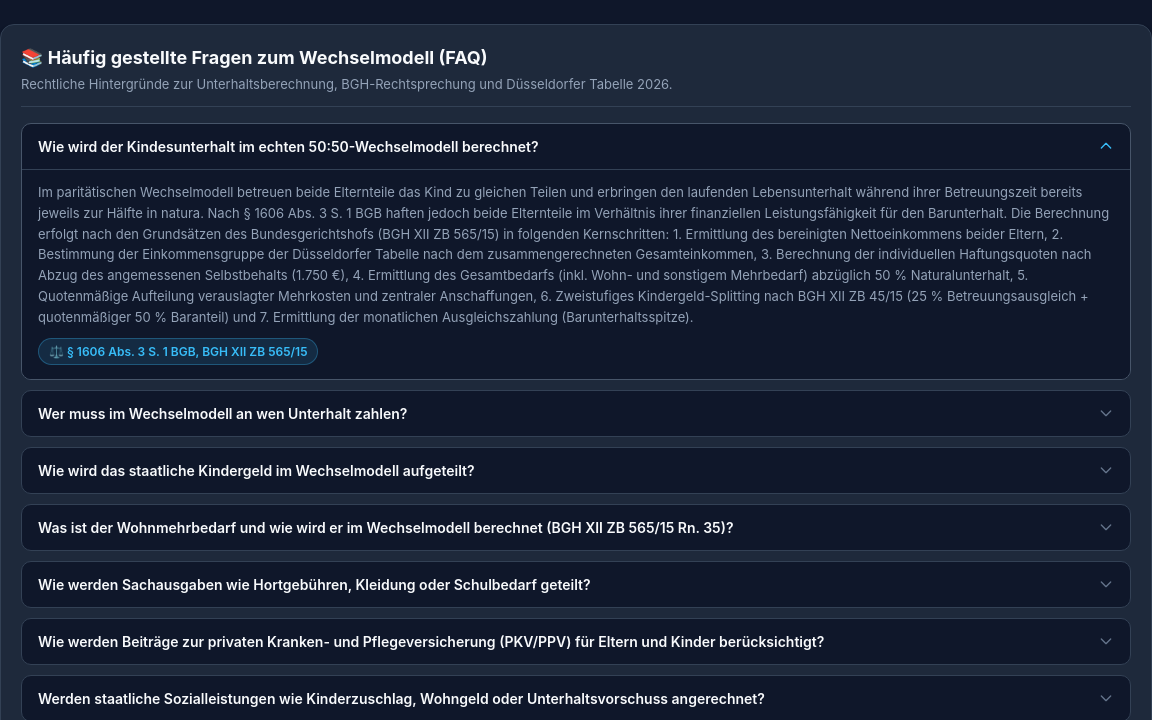
Test: FaqSection (SEO & Rechtsinformationen) › zeigt rechtliche Hintergründe zum Subsidiaritätsprinzip bei Sozialleistungen
Click the button named "Werden staatliche Sozialleistungen wie Kinderzuschlag, Wohngeld oder Unterhaltsvorschuss angerechnet?".
click(576, 698)  # box [22,676,1130,719]
(page scrolled)
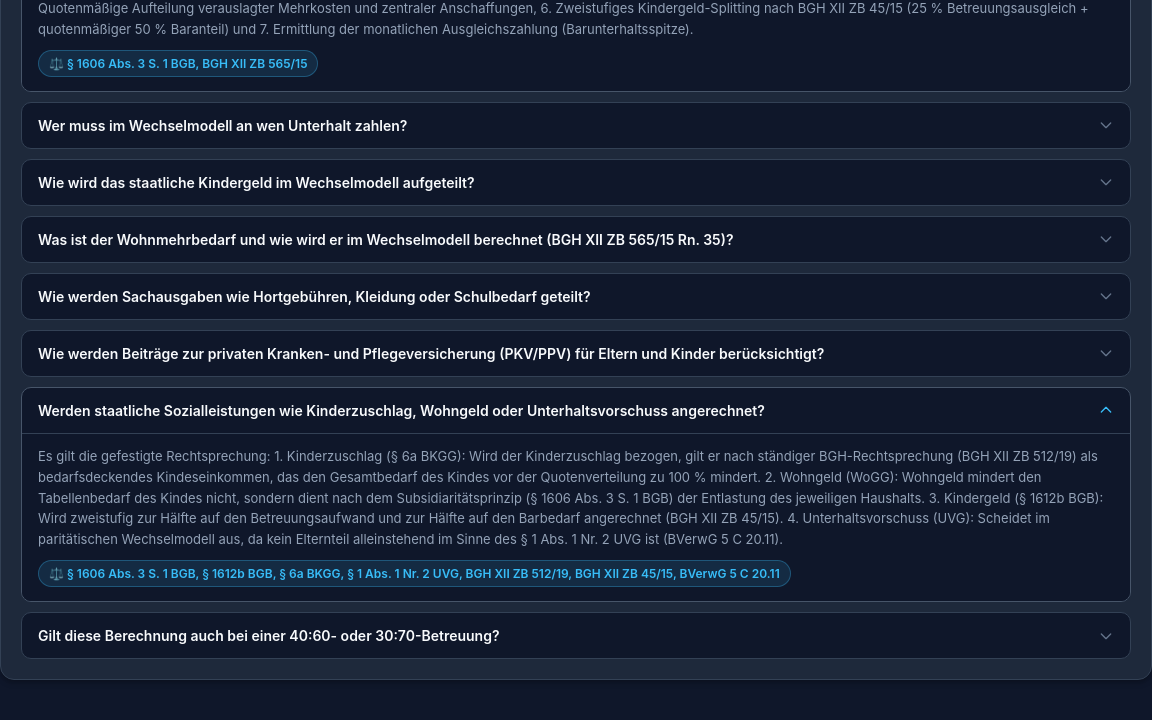
Result: the text "WoGG" is shown at [38,448,1103,547]
